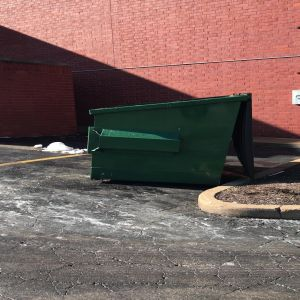Dumpster: (83, 92, 265, 193)
